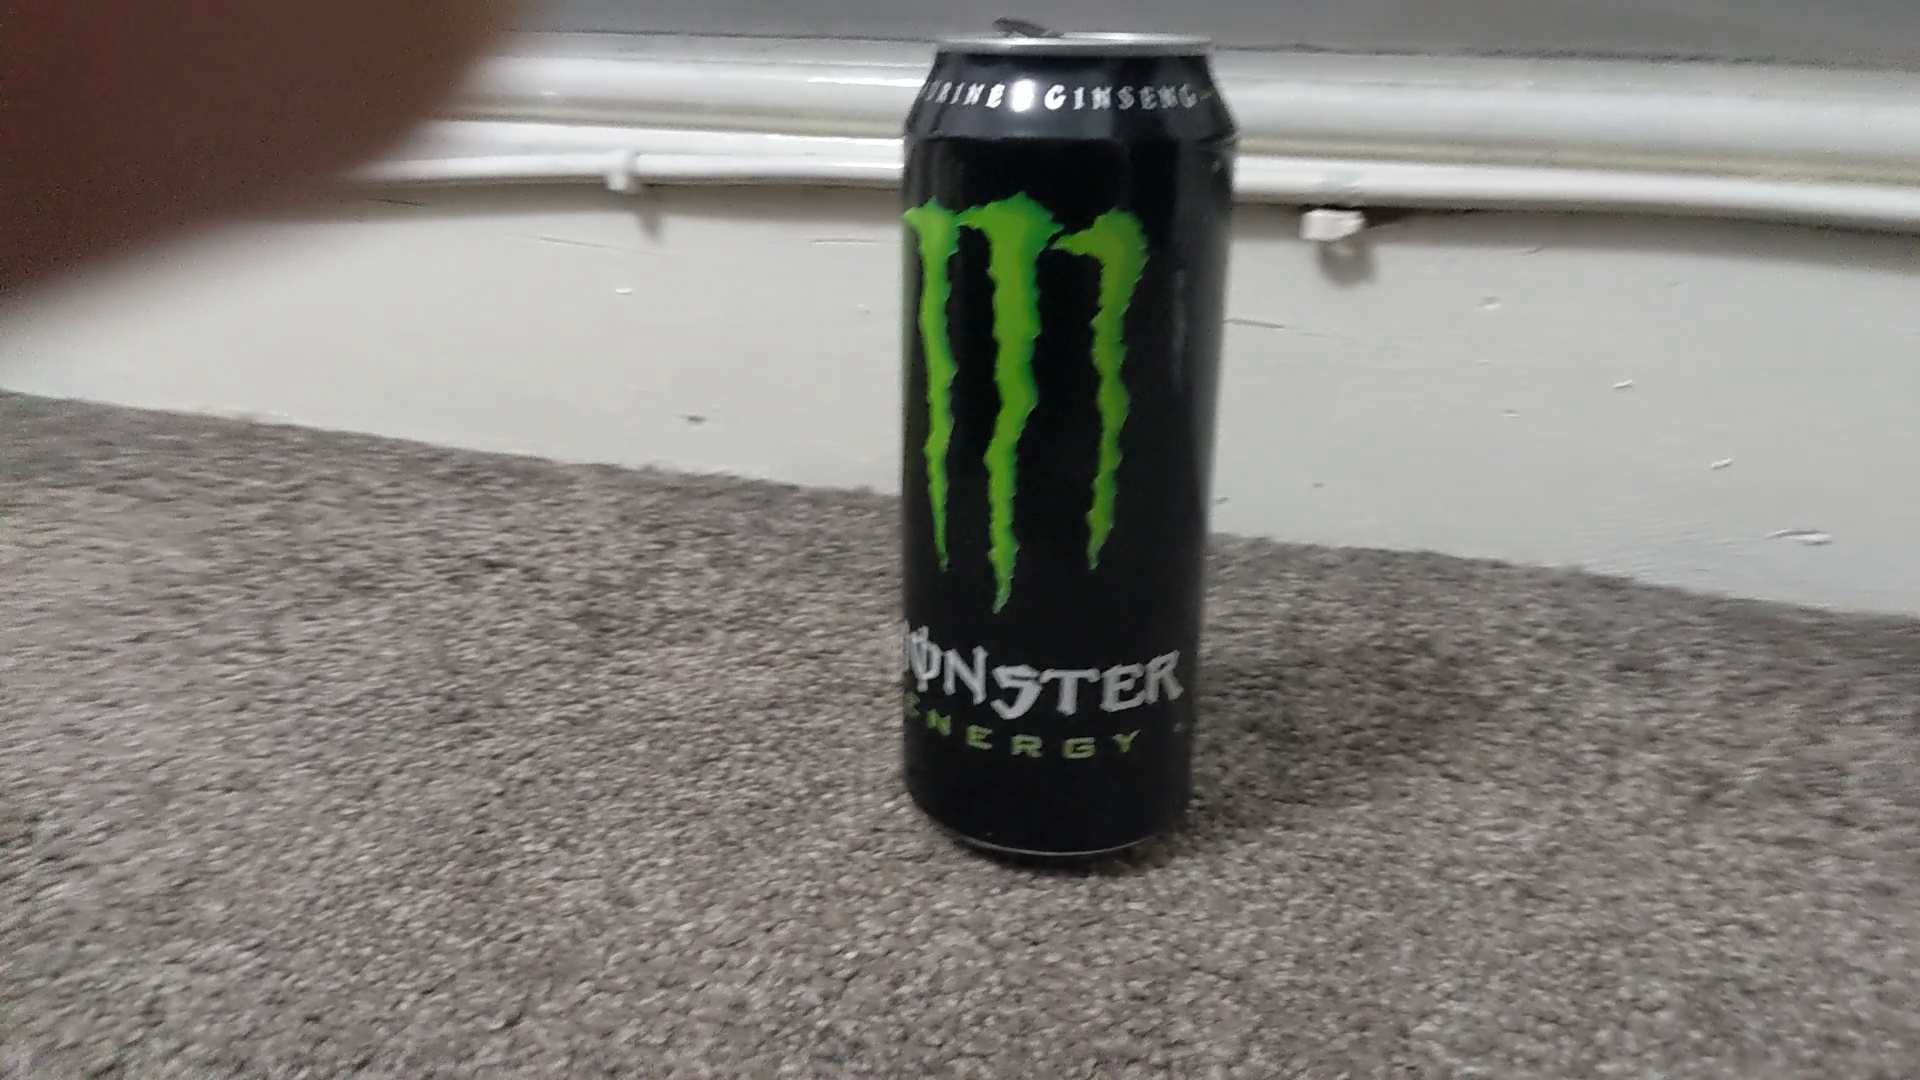monster-original: (898, 32, 1240, 860)
